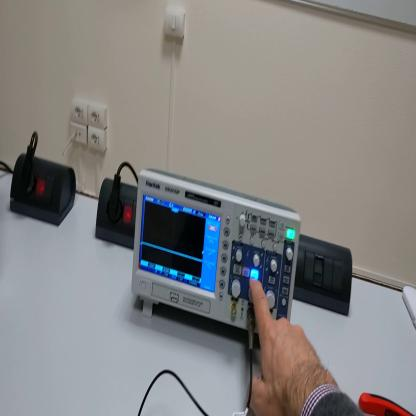hand: (248, 277, 333, 415)
oscilloscope: (131, 172, 301, 336)
pliers: (361, 395, 416, 416)
socket: (11, 151, 79, 227), (97, 177, 138, 249)
